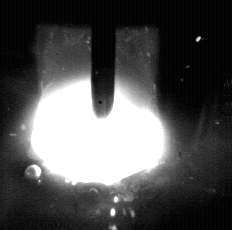arame: (92, 0, 116, 119)
poca: (30, 0, 165, 230)
